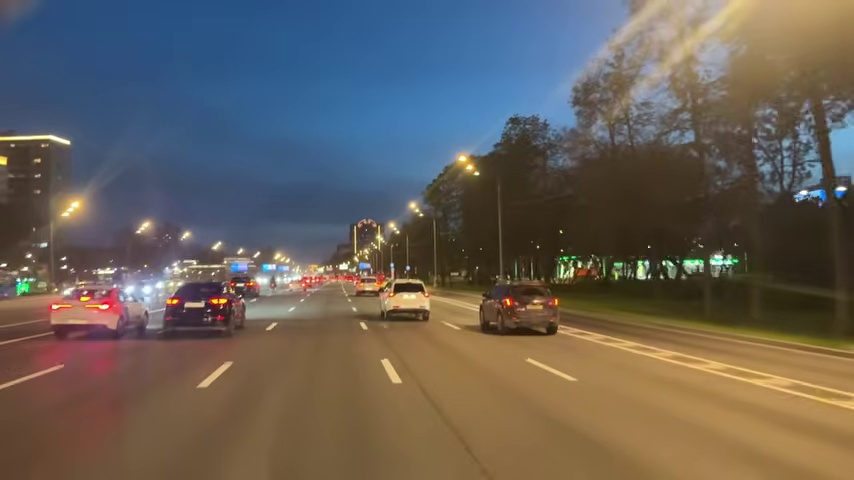acesa: (58, 197, 85, 221), (456, 153, 479, 177), (135, 217, 154, 237), (407, 200, 424, 218), (178, 229, 193, 244), (209, 241, 223, 254)
